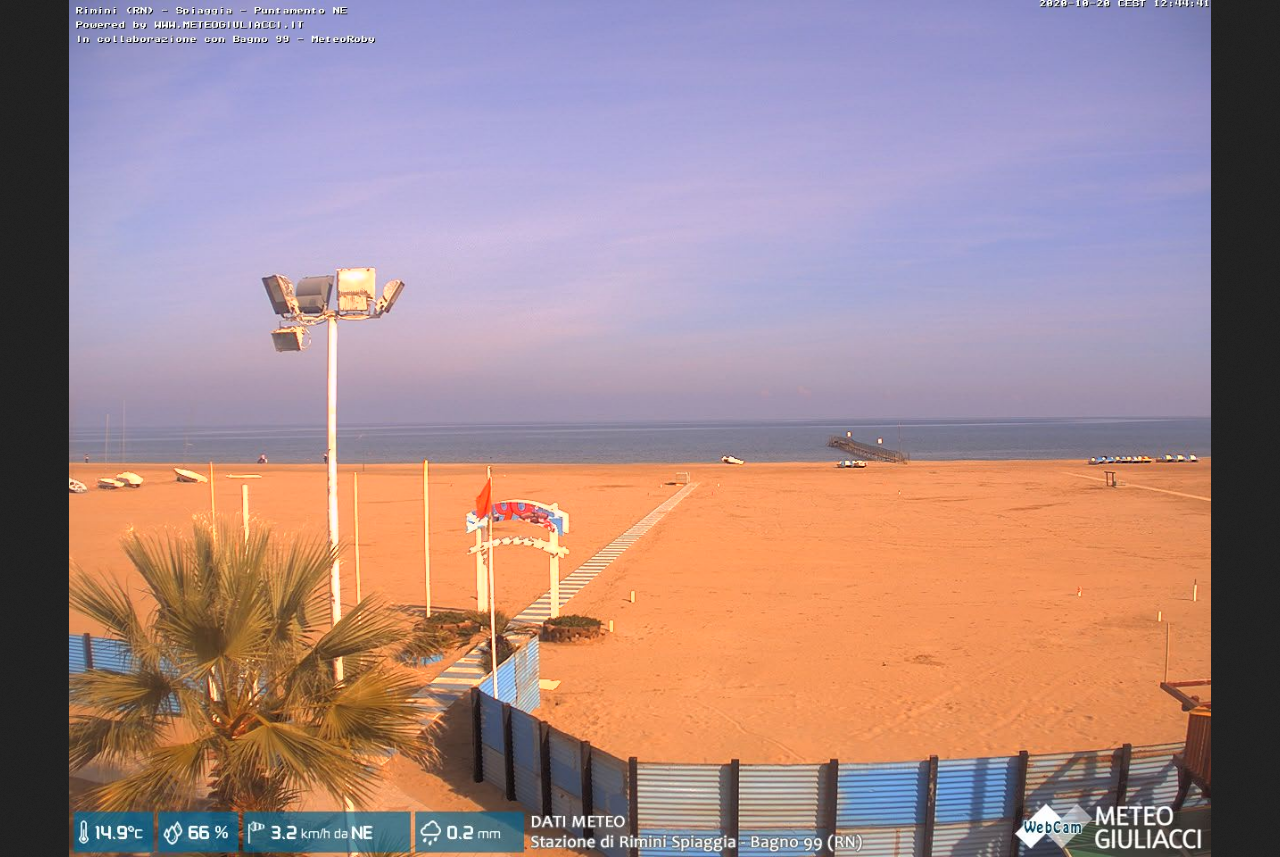maybe: (471, 476, 489, 525)
